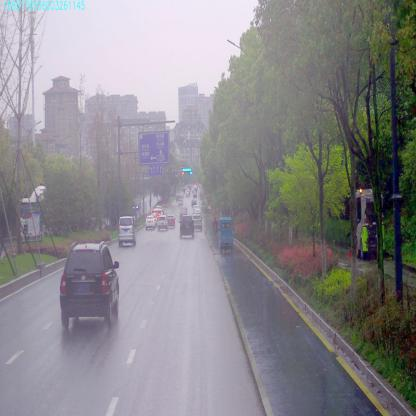traffic-light: (182, 166, 192, 170), (182, 170, 187, 175), (188, 170, 192, 175)
